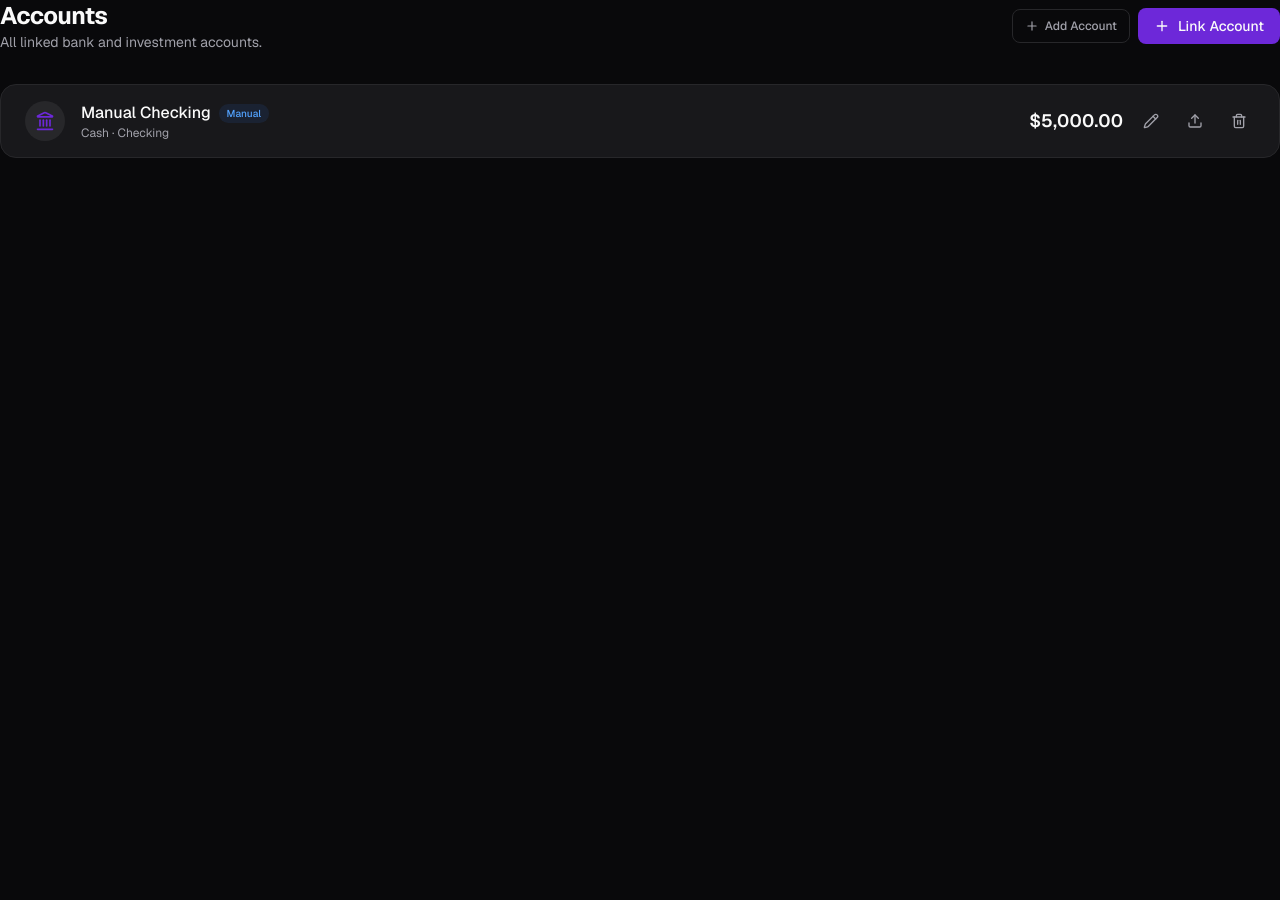
Test: AccountsPage › shows delete confirmation dialog when clicking delete
Expected: the text "Manual Checking" is shown, [81,101,211,125]
Click the button titled "Delete account". click: (1239, 121)
box: [1223,105,1255,137]
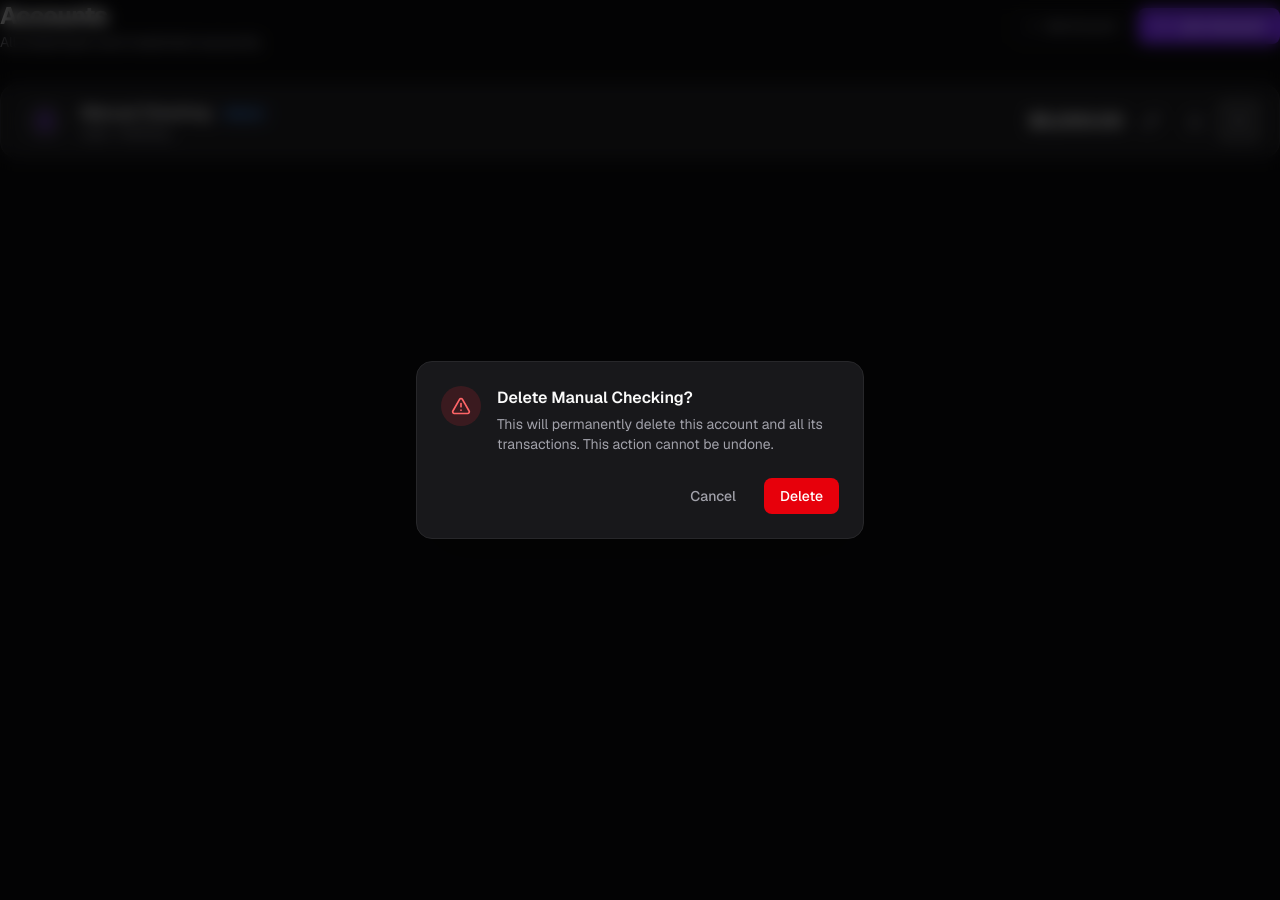
Result: the heading "Delete Manual Checking?" is shown at [497,387,693,408]
Result: the text "permanently delete this account" is shown at [497,415,823,453]
